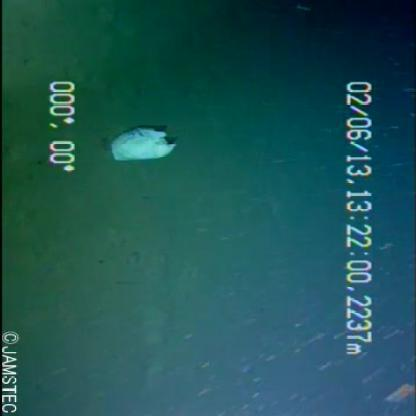Rác: (96, 108, 194, 181)
